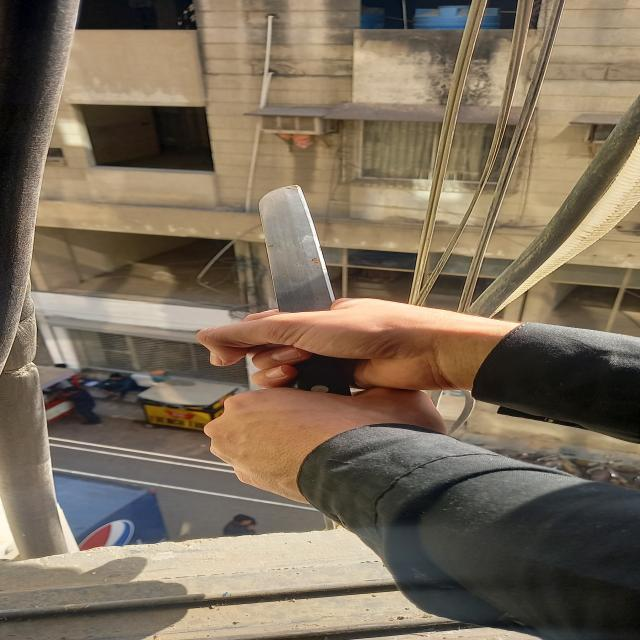Knife: (236, 175, 372, 402)
